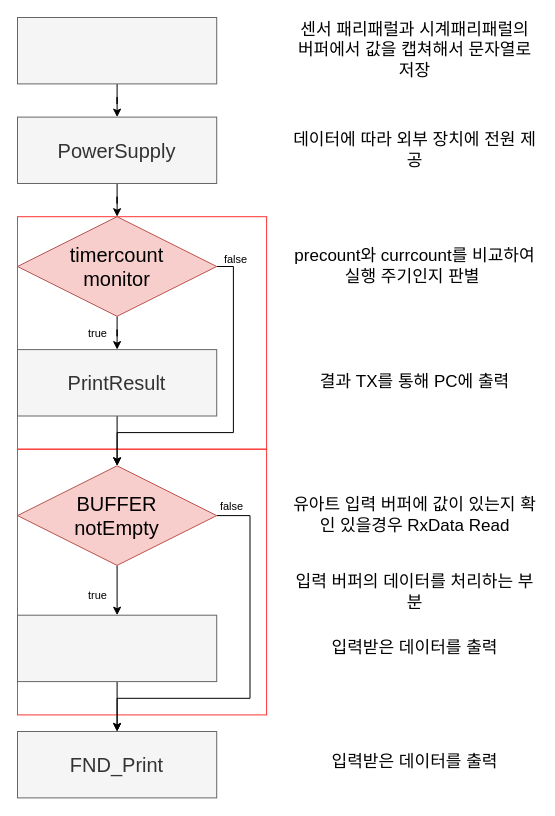
The diagram is 555 pixels wide and 816 high, and some of its shapes have lost their labels. The centre of each missing label's shape, as x and y in pixels:
Capture Data: point 116,50
Proccess RxData: point 116,648
